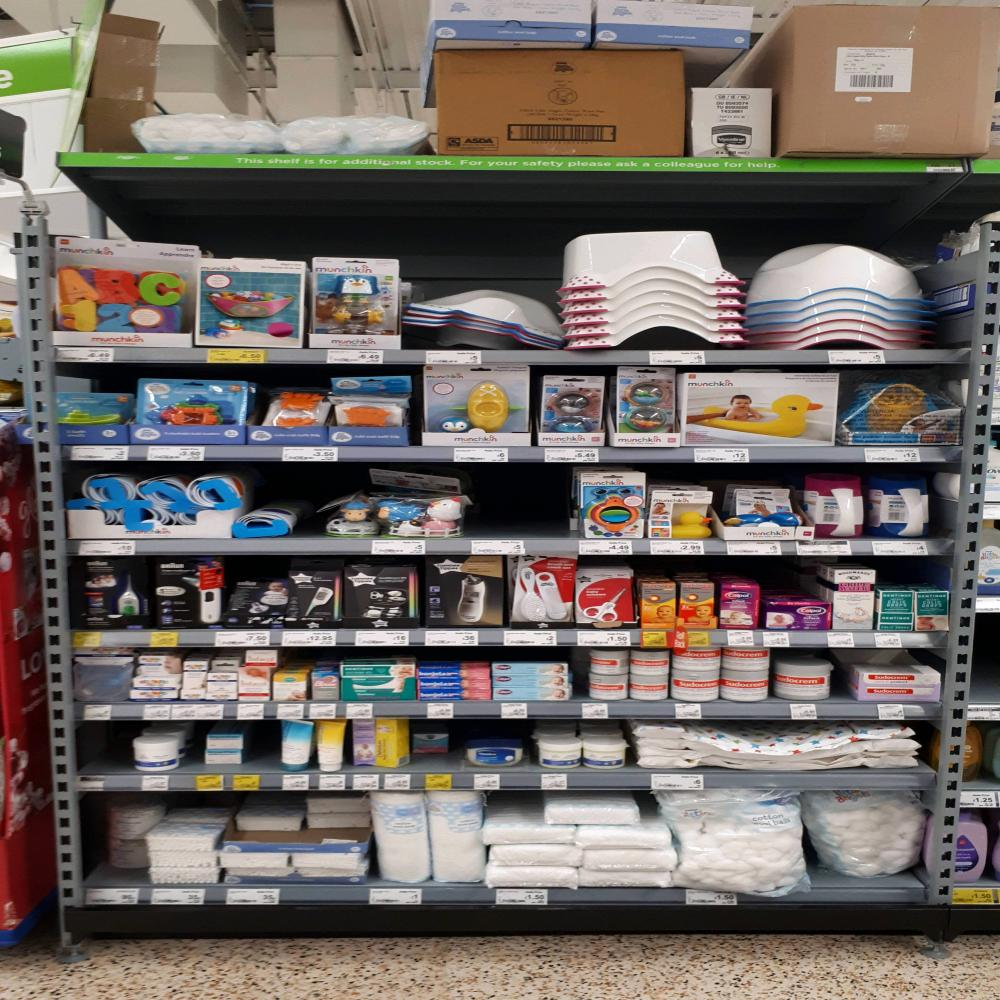shelf: (68, 538, 960, 557), (68, 630, 952, 648), (47, 346, 977, 362), (81, 887, 929, 904), (74, 704, 938, 719), (76, 774, 935, 789), (59, 447, 960, 461)
